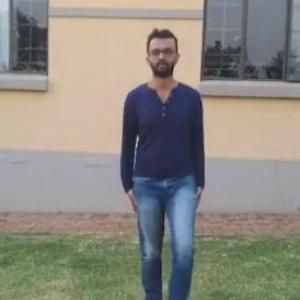follow: (120, 22, 210, 299)
